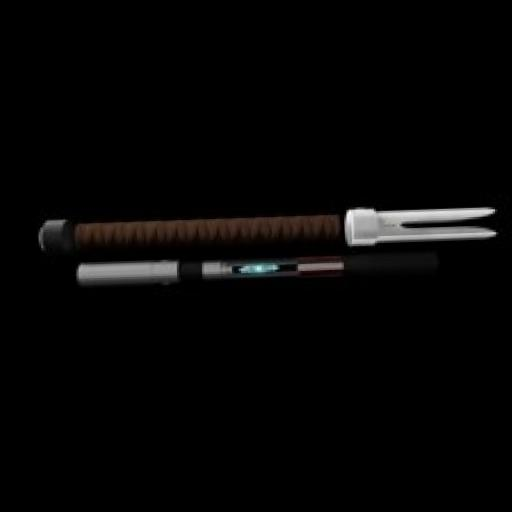lightsaber: (30, 190, 506, 263)
